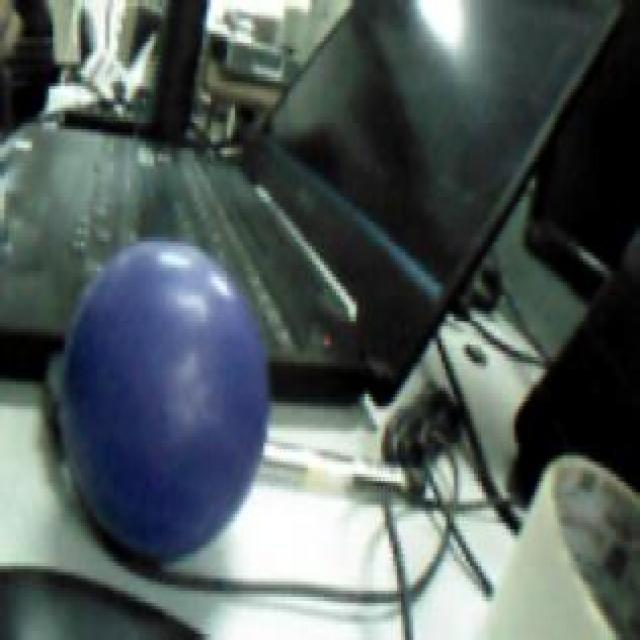BallPurple: (60, 240, 268, 566)
